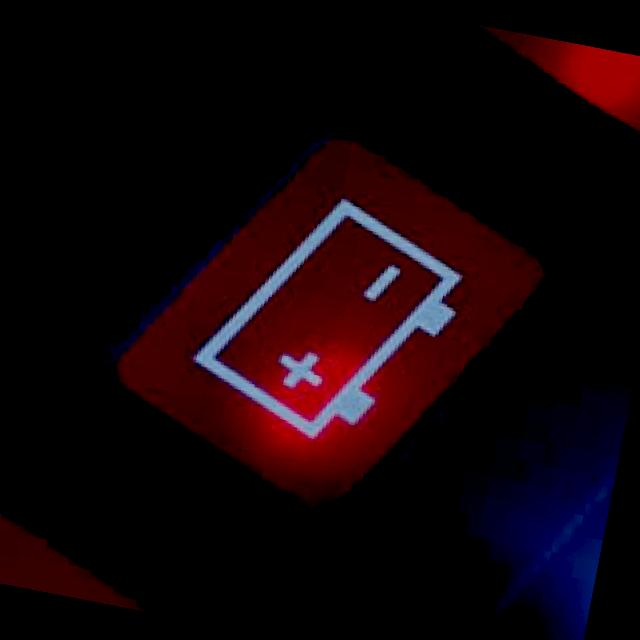kontrolka: (166, 163, 494, 489)
